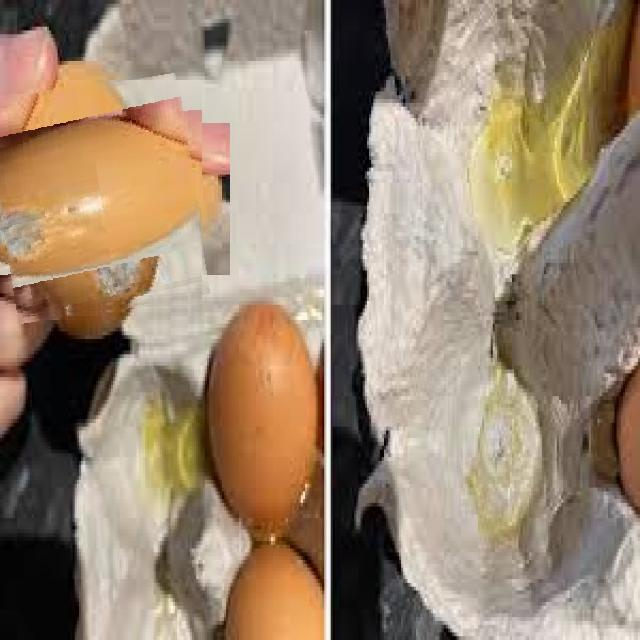biodegradable: (0, 80, 202, 317)
